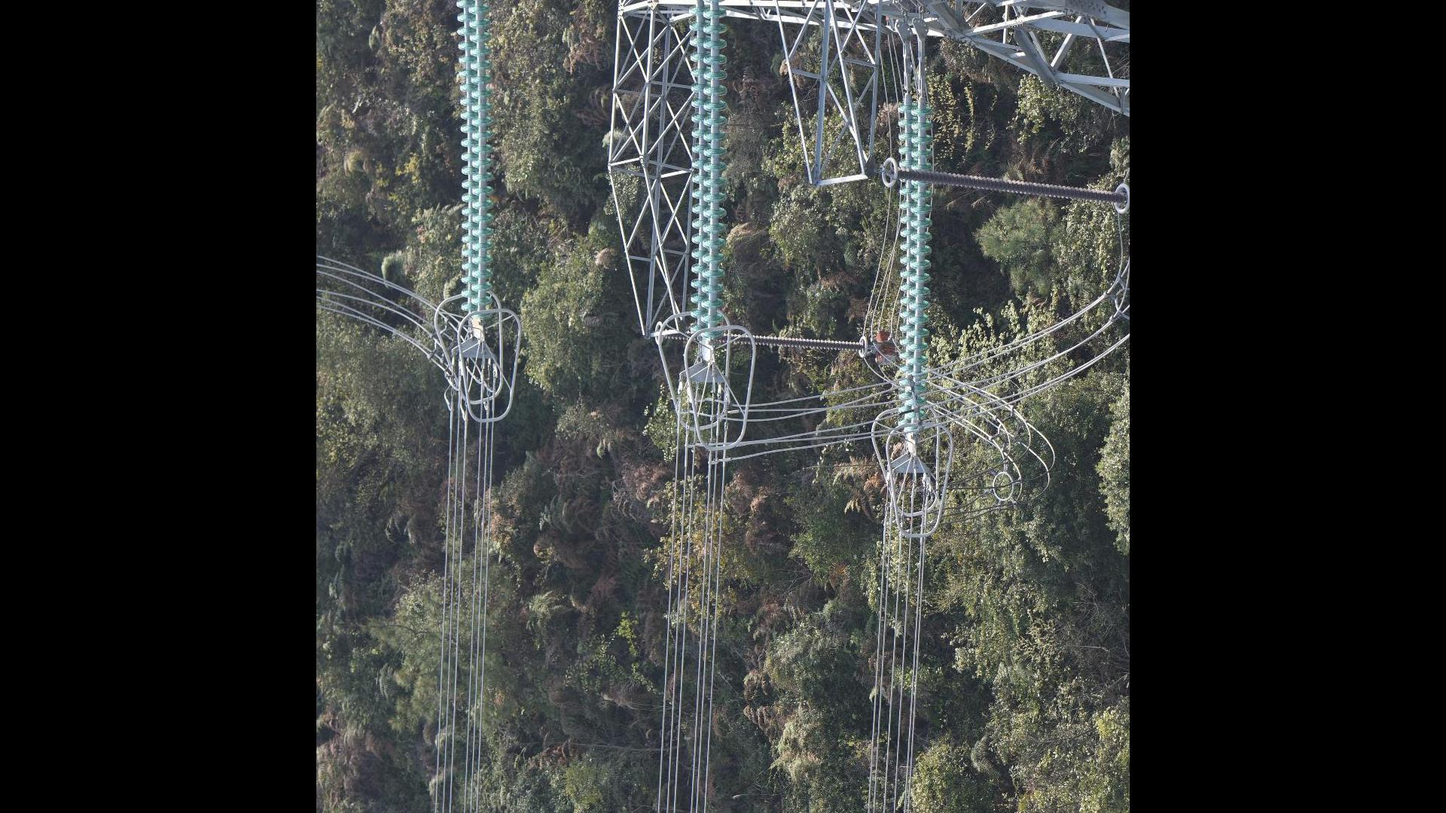insulator: (686, 1, 730, 343), (894, 102, 935, 434), (454, 1, 496, 325), (895, 166, 1124, 206), (722, 330, 865, 355)
